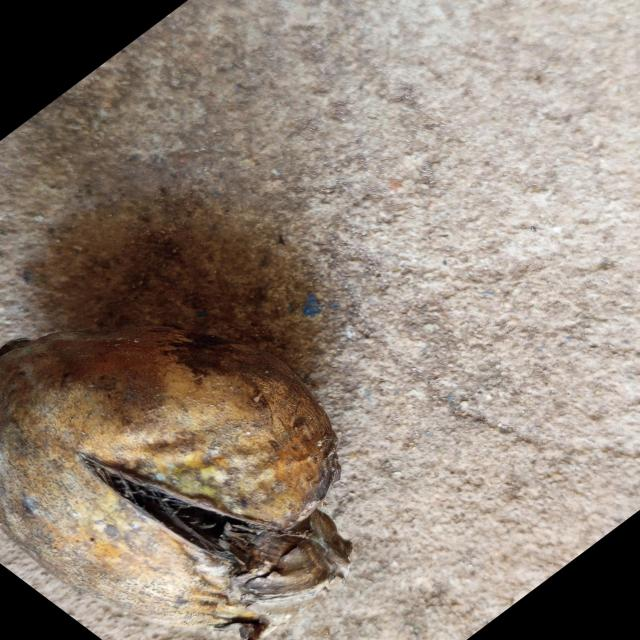damaged: (0, 327, 352, 640)
